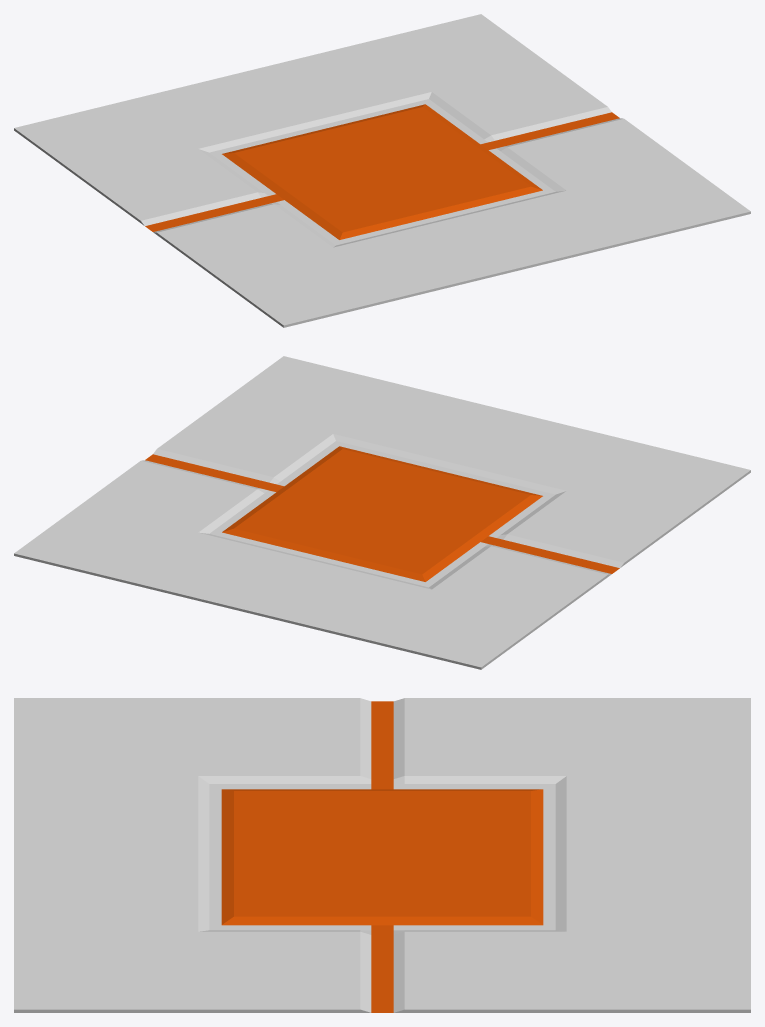
Rendered from S_Floor1_LOD0.fbx.
The picture shows the model from 3 angles, top to bottom: view 1: azimuth 30°, elevation 25°; view 2: azimuth 150°, elevation 25°; view 3: azimuth 270°, elevation 25°; orthographic projection. The views are drawn at different scales.
Visible parts, largest first — view 1: S_Floor1_LOD0; view 2: S_Floor1_LOD0; view 3: S_Floor1_LOD0.
Boxes of the visible parts, x1,y1,x2,y2 form: S_Floor1_LOD0: (14,14,750,327); S_Floor1_LOD0: (14,356,750,669); S_Floor1_LOD0: (14,698,750,1012).
Size of the model in its own units: 200 by 200 by 1.
